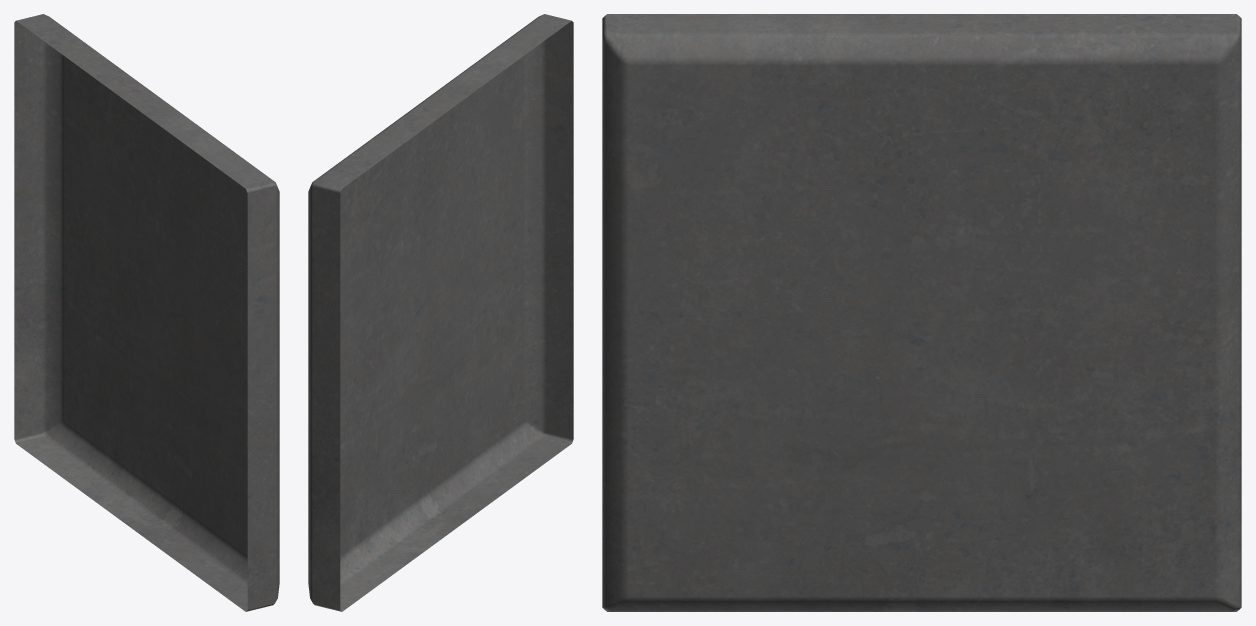
Rendered from cP_Pathway03_SteppingStoneSquare.dae.
3 renders of one model, left to right at view 1: azimuth 30°, elevation 25°; view 2: azimuth 150°, elevation 25°; view 3: azimuth 270°, elevation 25°, orthographic. The views are drawn at different scales.
Visible parts, largest first — view 1: cP_Pathway03_SteppingStoneSquare.001; view 2: cP_Pathway03_SteppingStoneSquare.001; view 3: cP_Pathway03_SteppingStoneSquare.001.
Part boxes in pixels (box(x1,y1,x2,y2)): cP_Pathway03_SteppingStoneSquare.001: box(14, 14, 279, 611); cP_Pathway03_SteppingStoneSquare.001: box(308, 14, 573, 611); cP_Pathway03_SteppingStoneSquare.001: box(602, 14, 1241, 611).
Size of the model in its own units: 0.0521 by 0.5191 by 0.5191.
